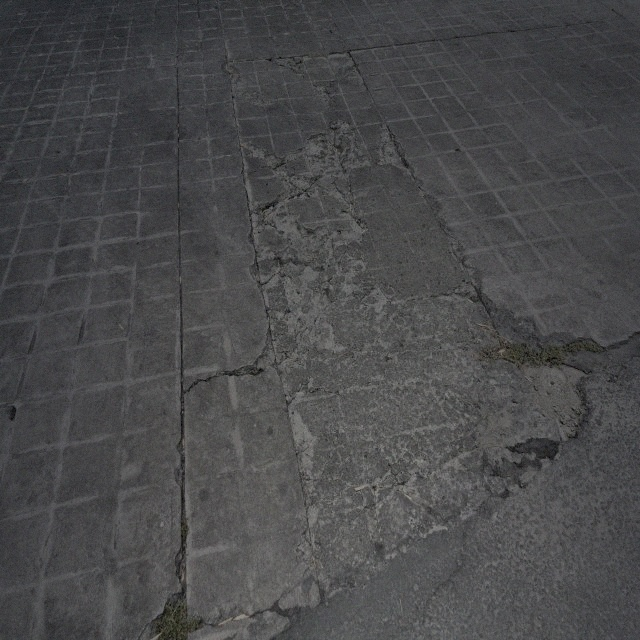pothole: (512, 336, 590, 454)
